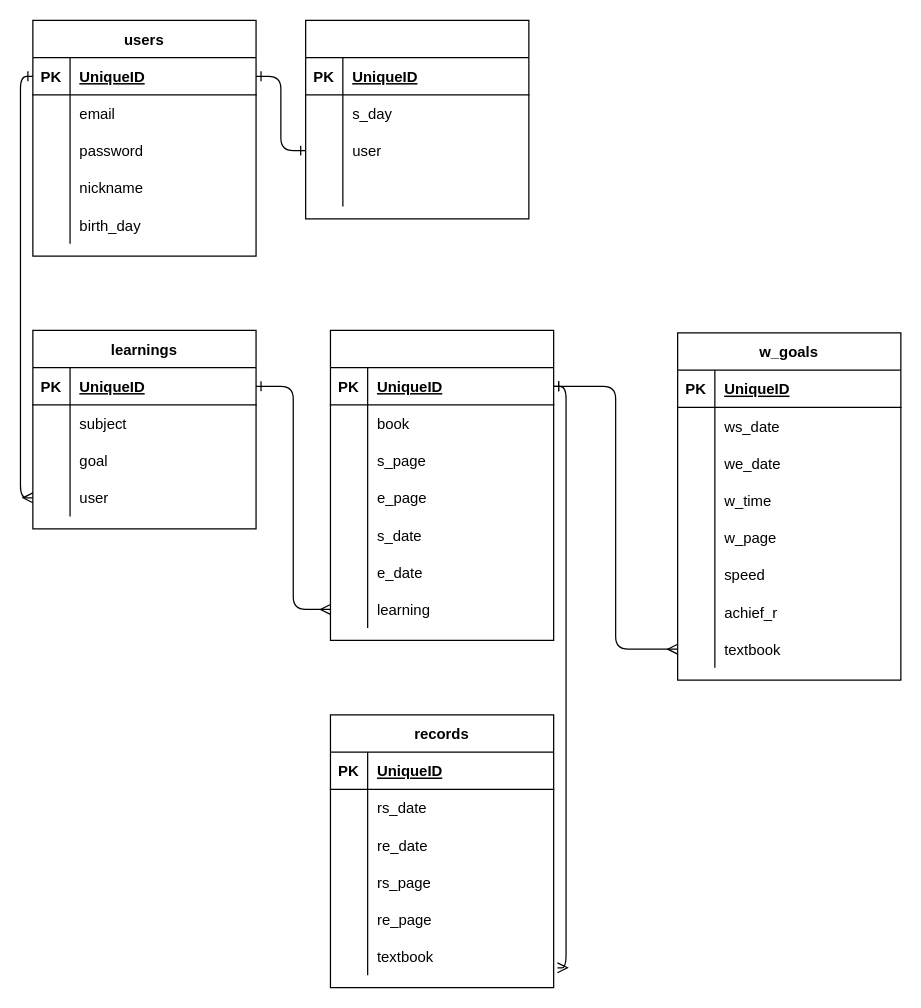
This 921x1008 diagram has some shape labels left out. The box of each missing label's shape, as (x1, y1, x2, y2) in pixels:
settings: (304, 19, 529, 219)
textbooks: (329, 329, 554, 640)
